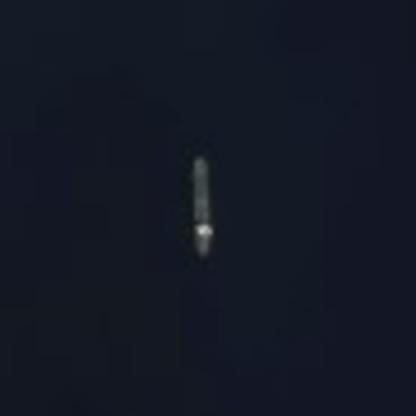ship: (180, 148, 224, 259)
